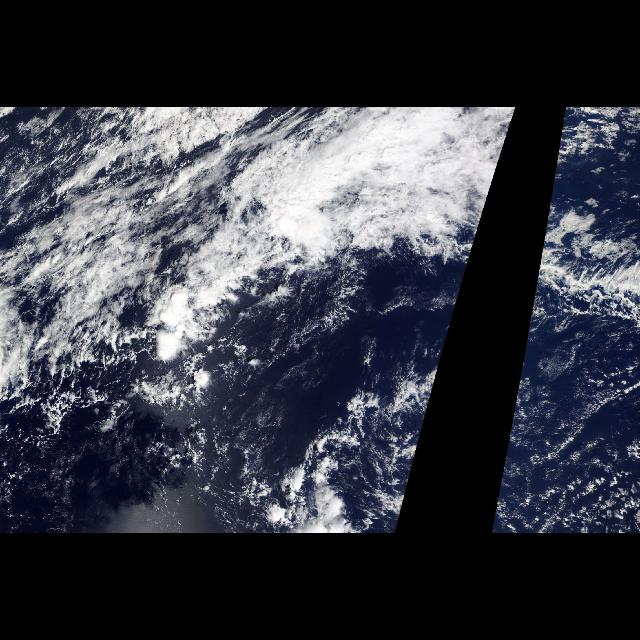Fish: (557, 258, 639, 312)
Gravel: (520, 371, 640, 534)
Sugar: (233, 326, 293, 526)
